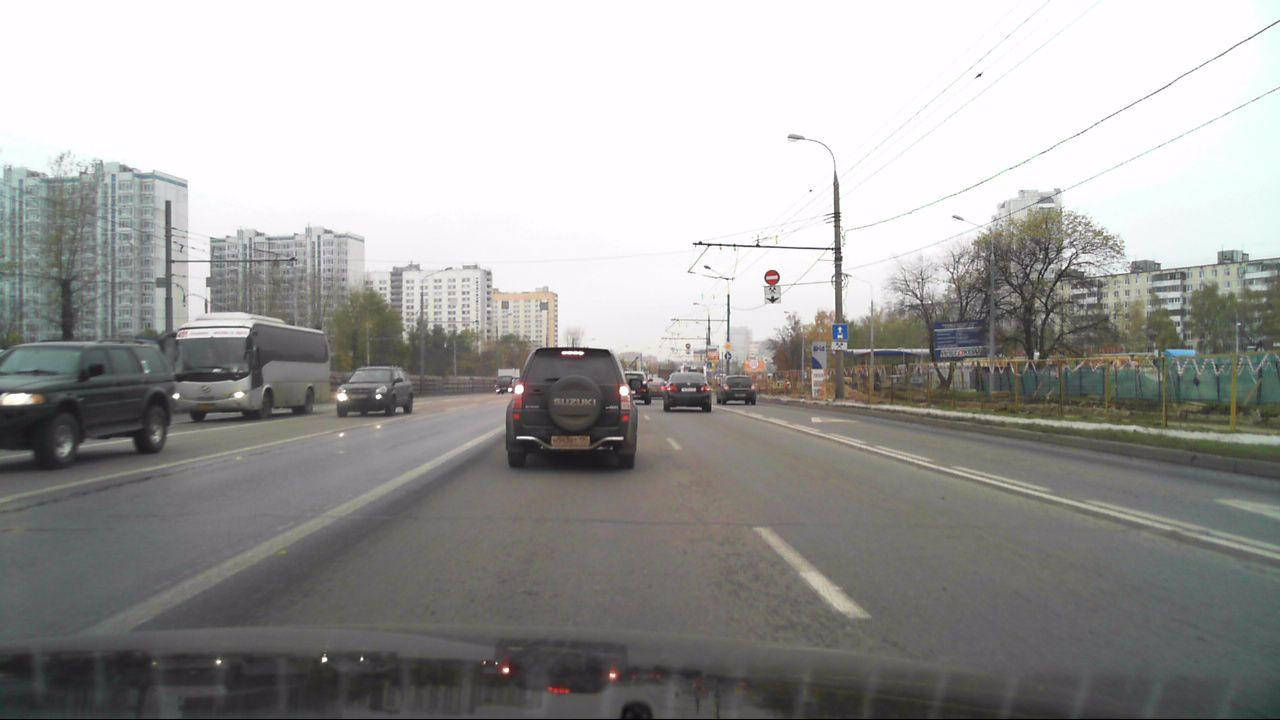road_sign: (764, 285, 781, 304), (831, 323, 848, 340), (765, 270, 780, 285)
